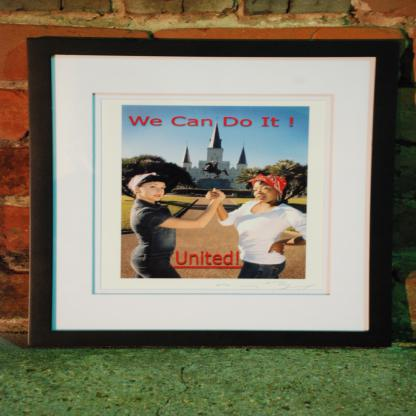Picture-frame: (28, 34, 398, 349)
